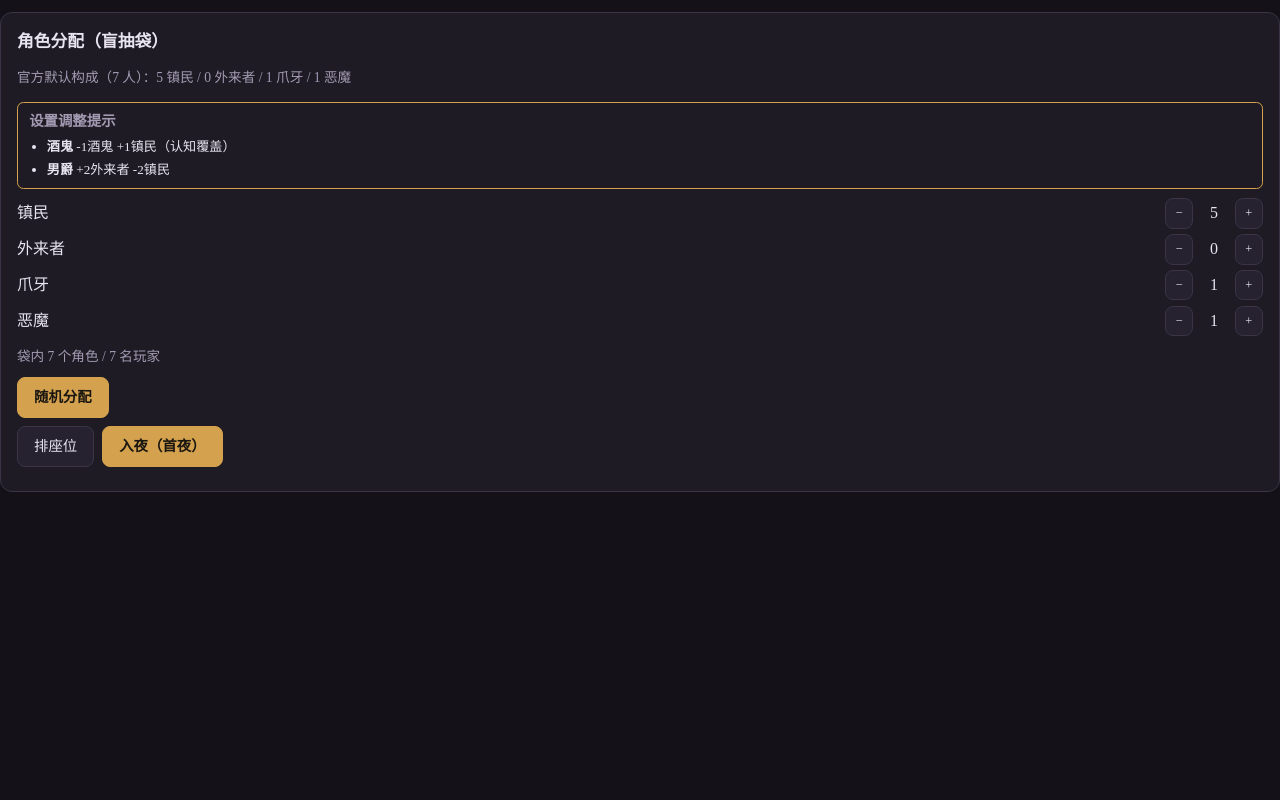
Test case: Drawing（F-03 抽袋，ADR-008） › 手动 +/- 调整构成，总数不符给醒目警告但不阻止操作
This screenshot has width=1280, height=800.
Click the button named "外来者 +1": coordinates (1249, 249) [1235,234,1263,264]
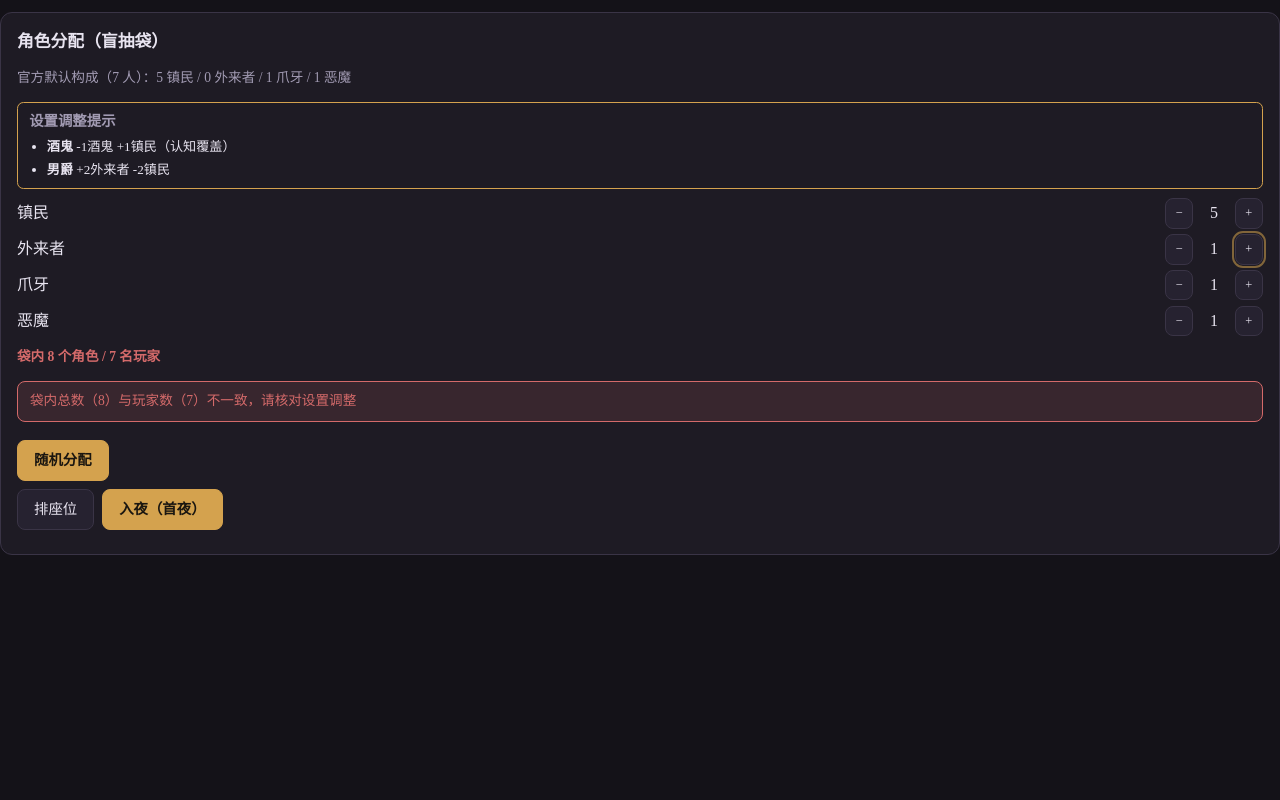
Expected: the button "随机分配" is enabled, [17,440,109,481]
Result: the text "袋内 8 个角色 / 7 名玩家" is shown at [17,349,160,364]
Result: the text "袋内总数（8）与玩家数（7）不一致，请核对设置调整" is shown at [17,381,1263,422]
